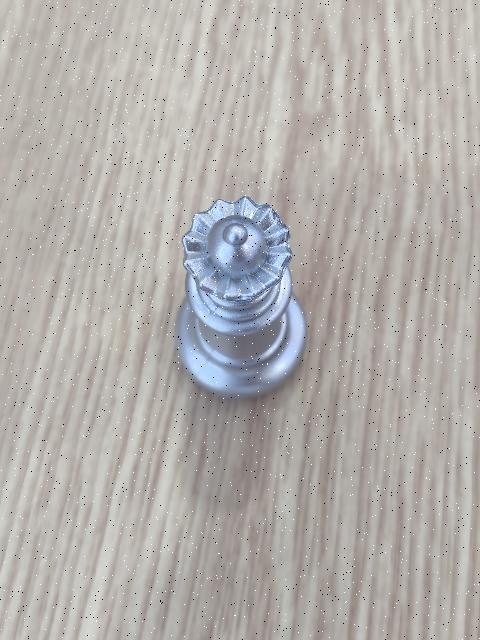white_queen: (171, 193, 304, 402)
